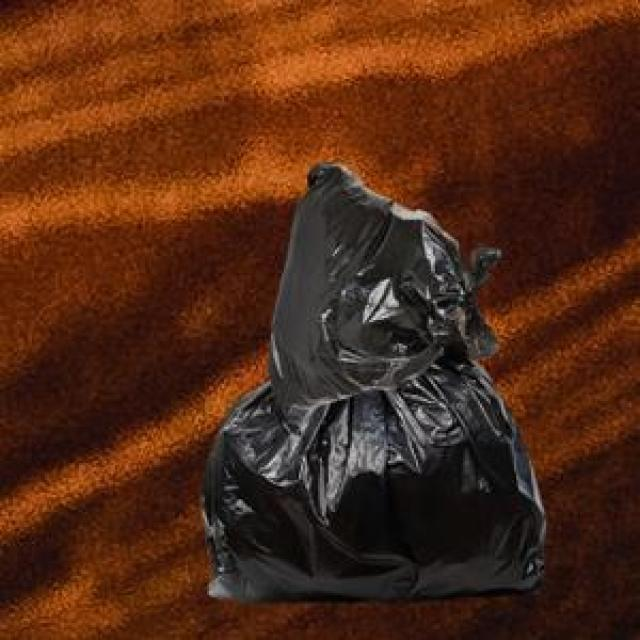waste: (205, 164, 546, 599)
